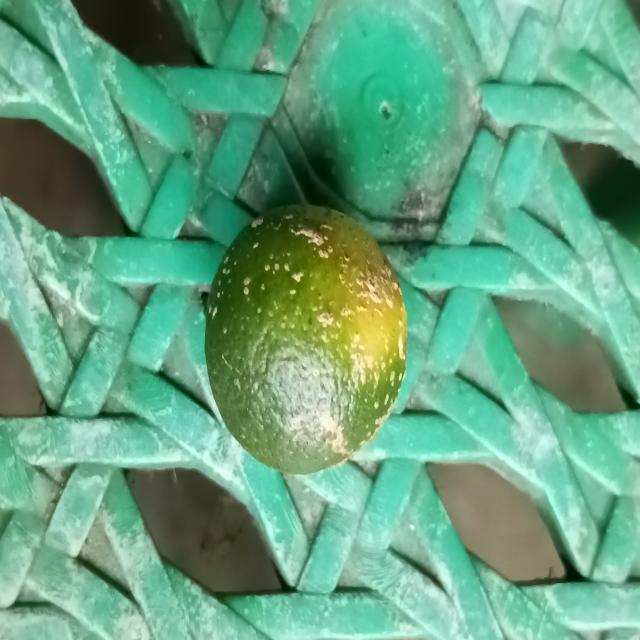scab: (204, 199, 410, 471)
